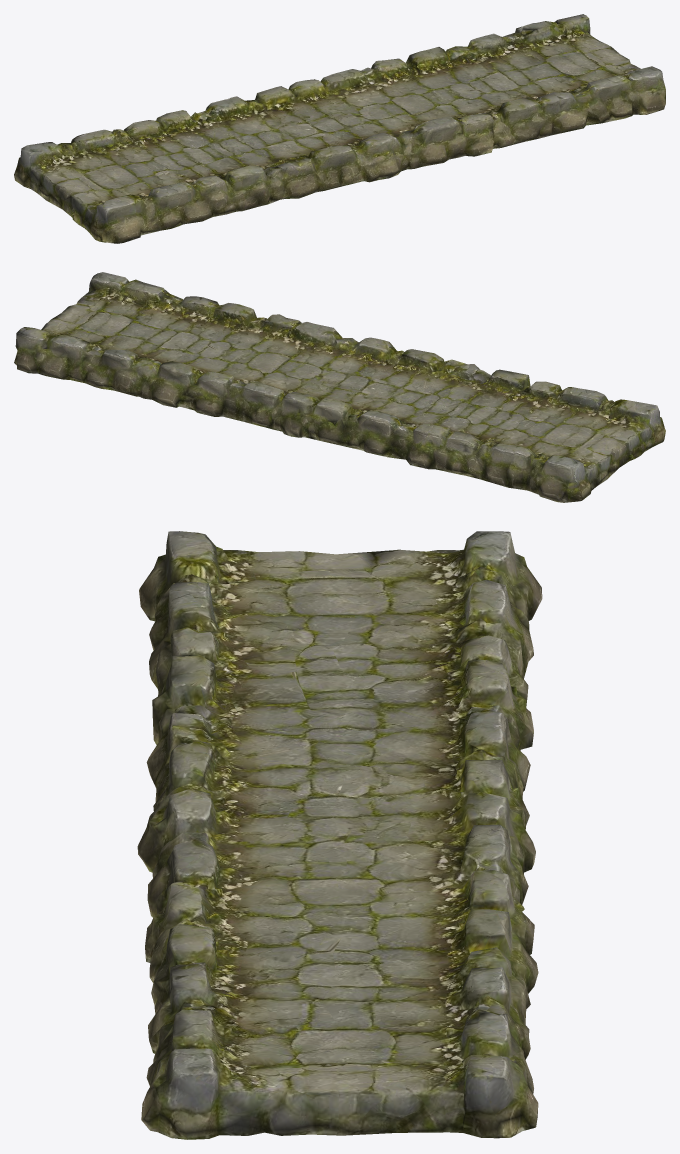
The model's file is road-straight.glb.
3 renders of one model, top to bottom at view 1: azimuth 30°, elevation 25°; view 2: azimuth 150°, elevation 25°; view 3: azimuth 270°, elevation 25°, orthographic. The views are drawn at different scales.
Size of the model in its own units: 1.91 by 0.1036 by 0.5863.
1 material, 1 textured.
